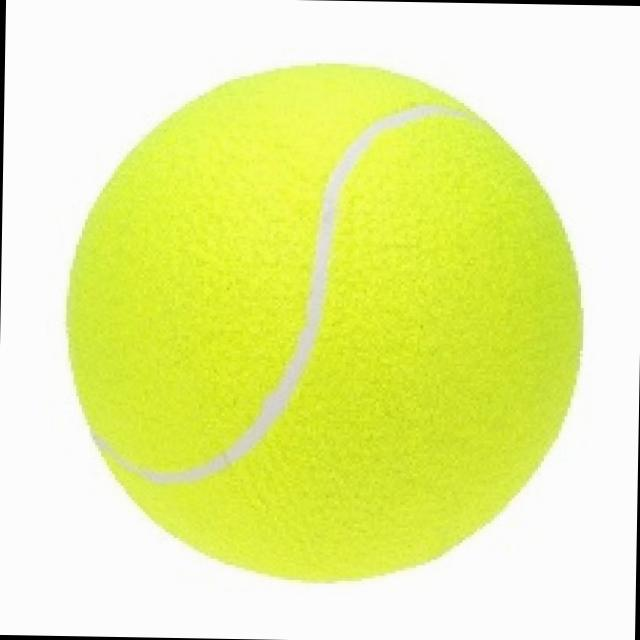Tennis Ball: (59, 62, 586, 586)
